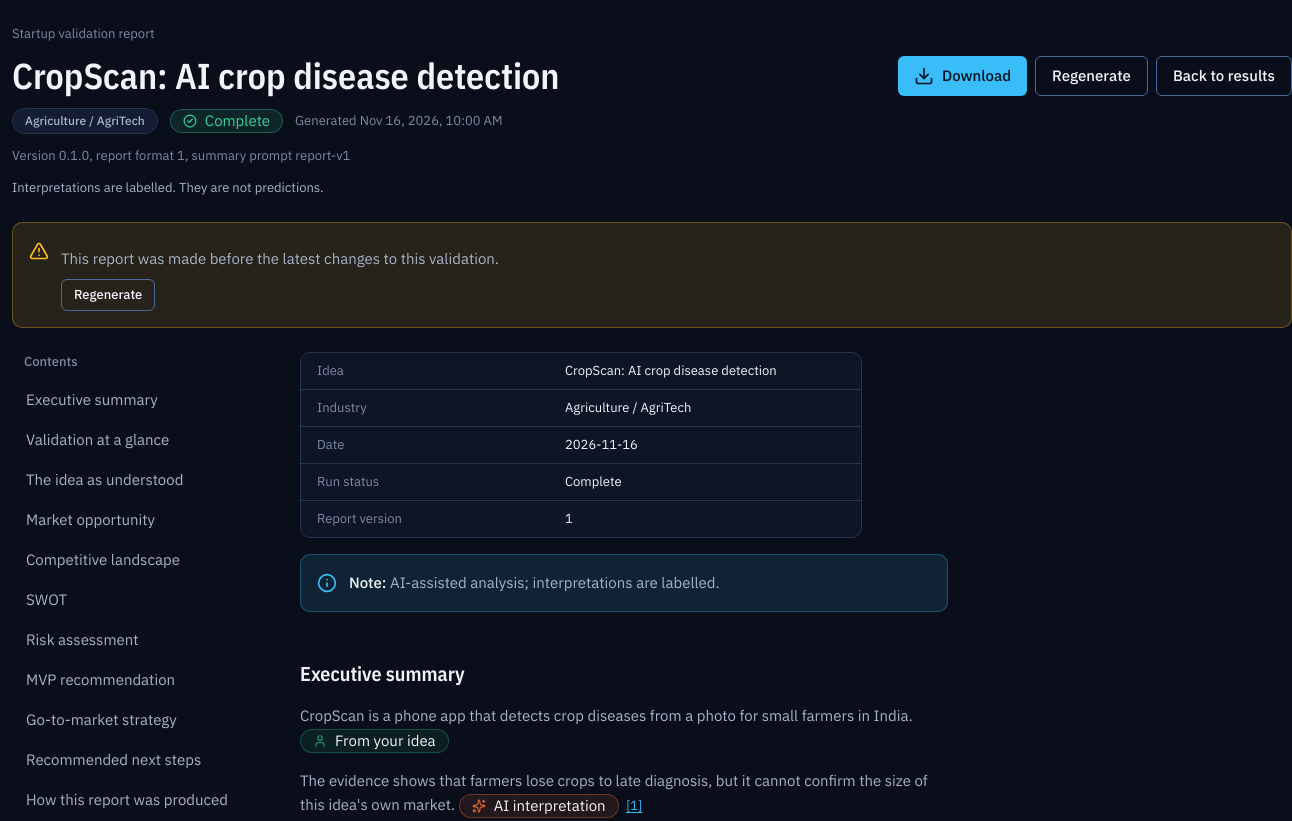
Report page: banners › says an out-of-date report is out of date and regenerates it
What coordinates should you click on to do the following:
click the 2nd button "Regenerate"
I would click on:
 (108, 295)
Its box is [61,279,155,311].
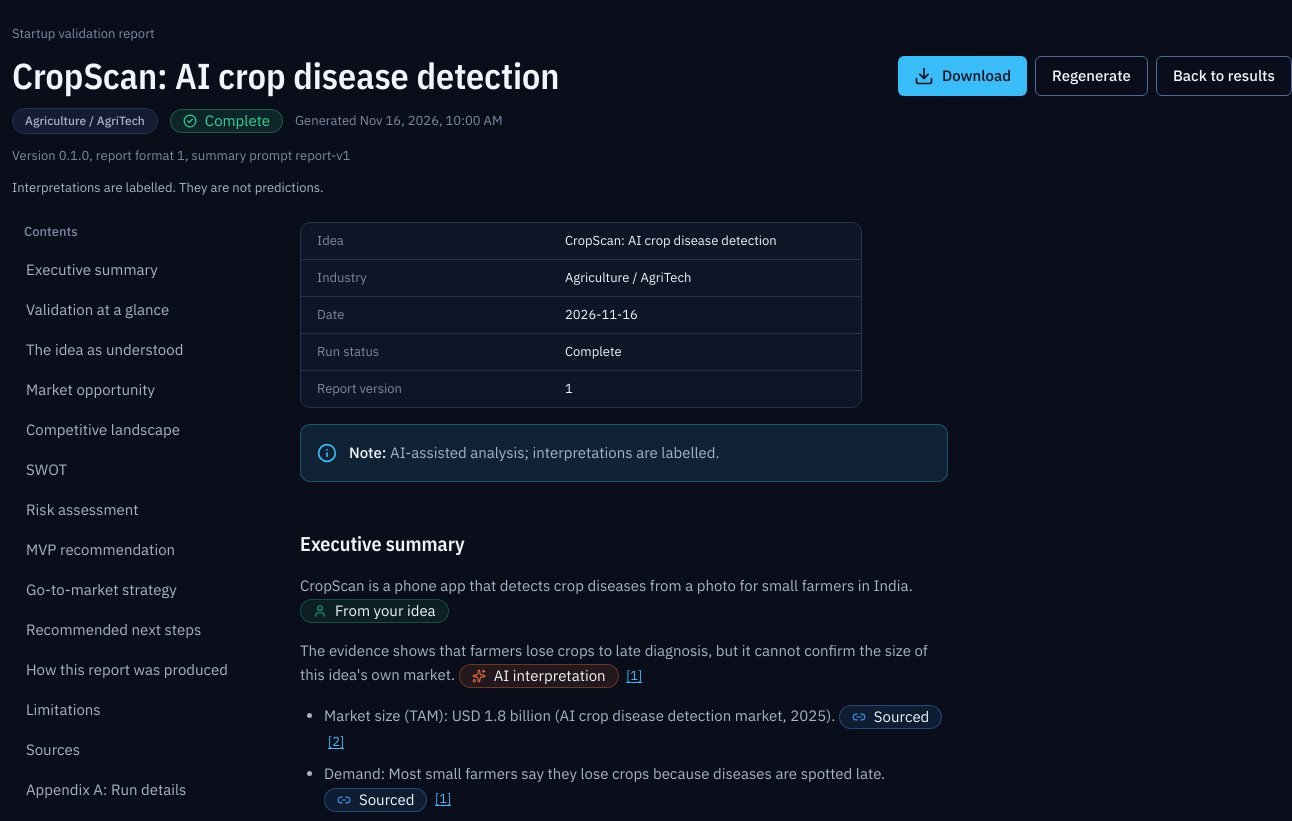
Expected: the text "This report was made before the latest changes to this validation." is gone
